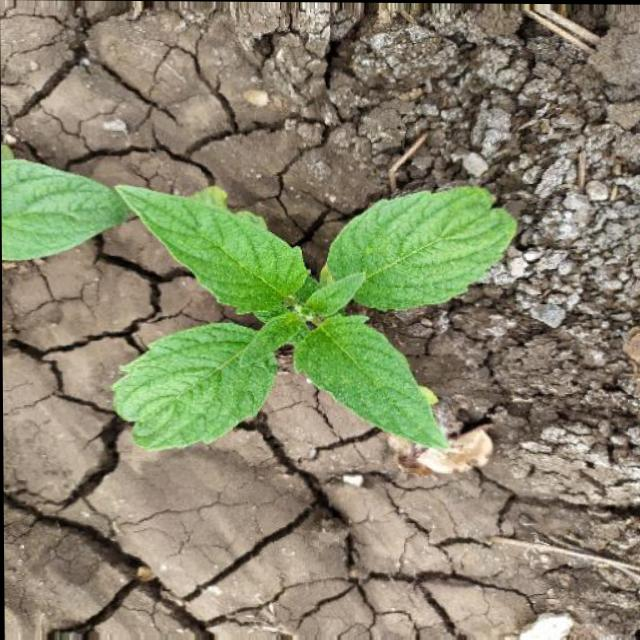crop: (109, 165, 520, 460)
